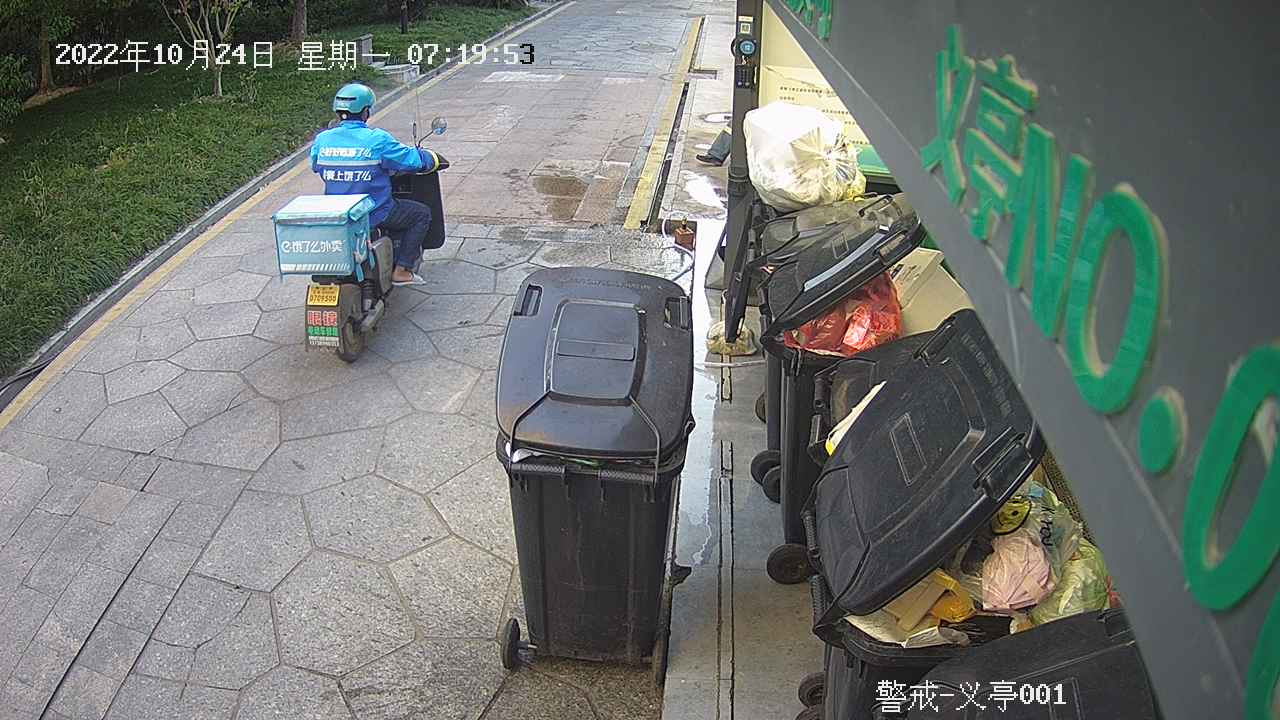worker: (303, 79, 447, 297)
